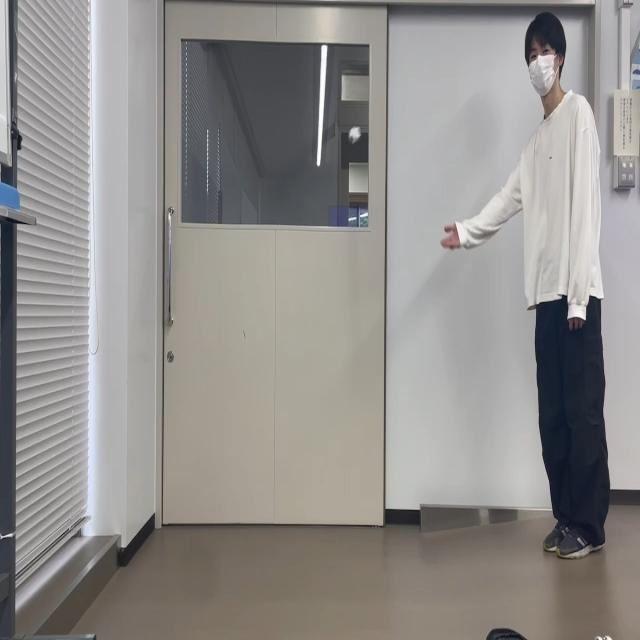paper: (348, 123, 362, 148)
